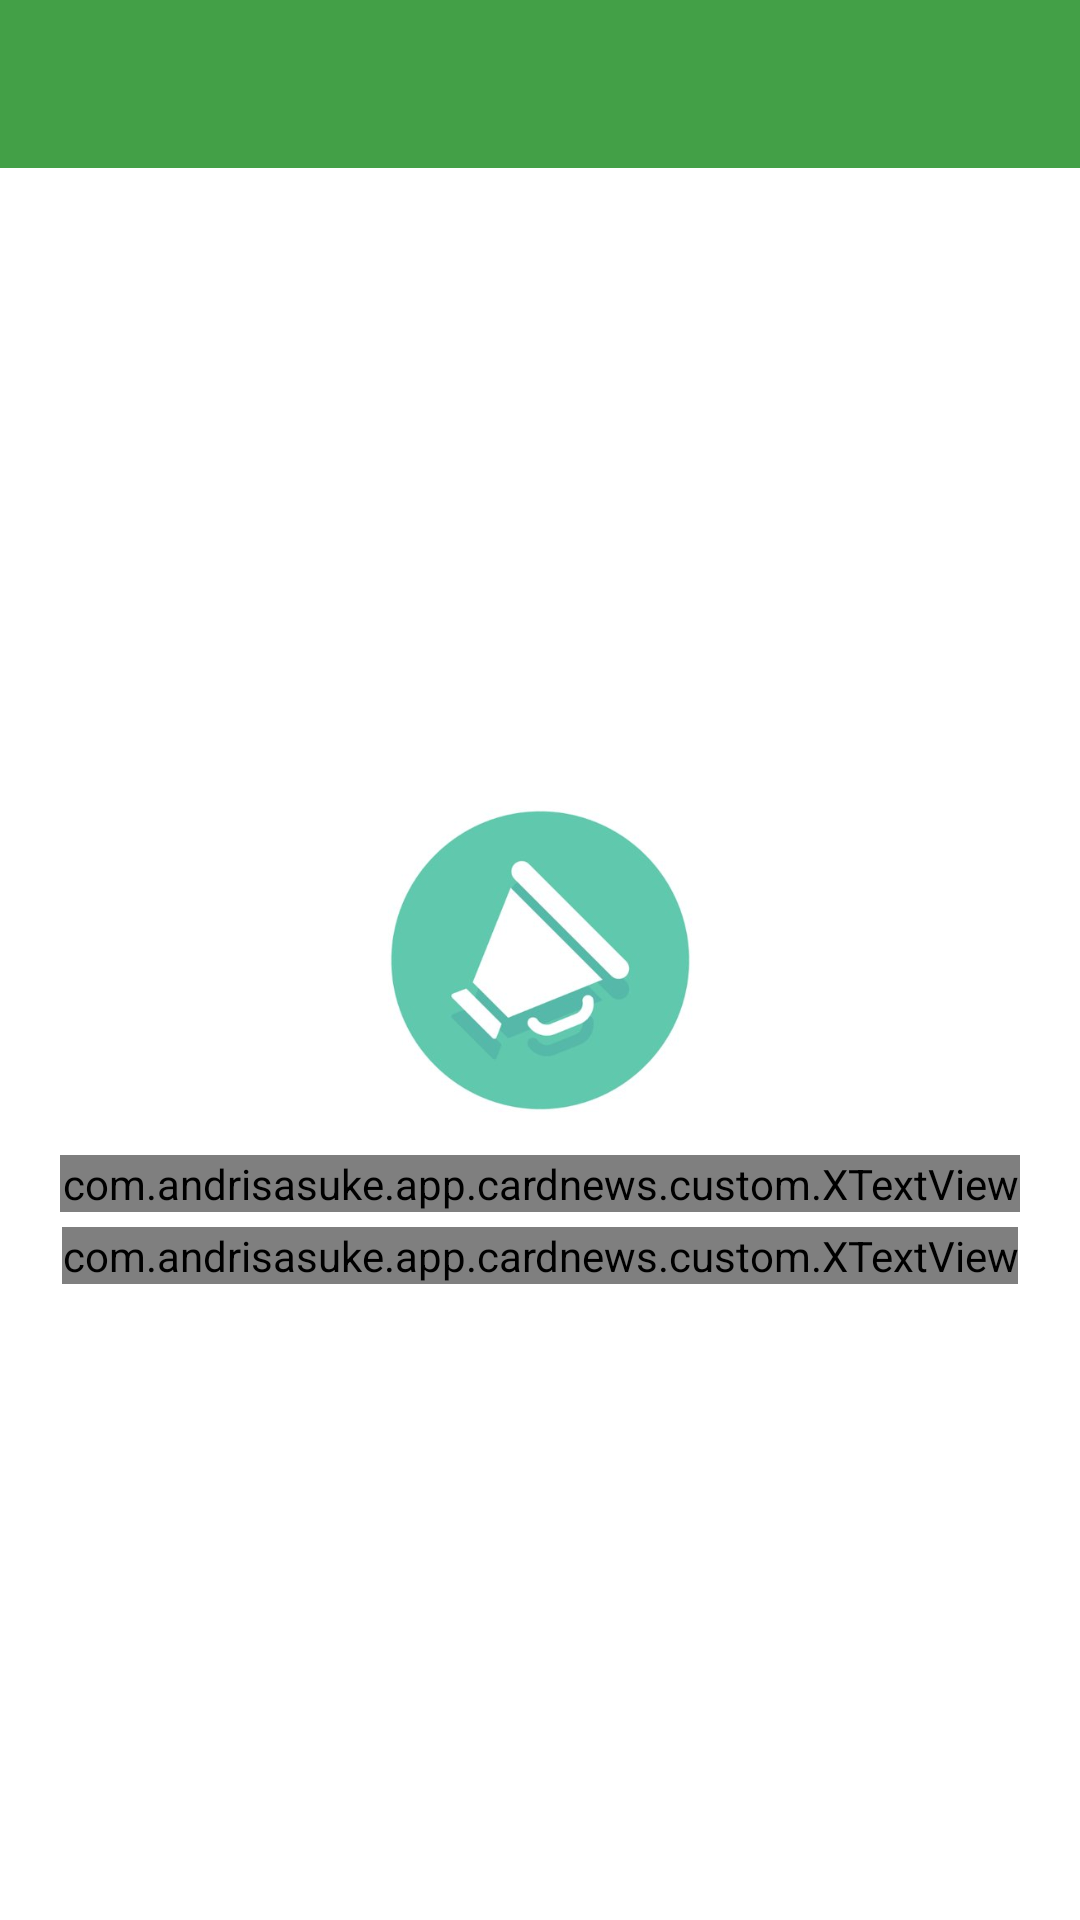

Where to tap for icons on this 1080*1920 app screen, as point (x, y):
speaker: point (540, 960)
